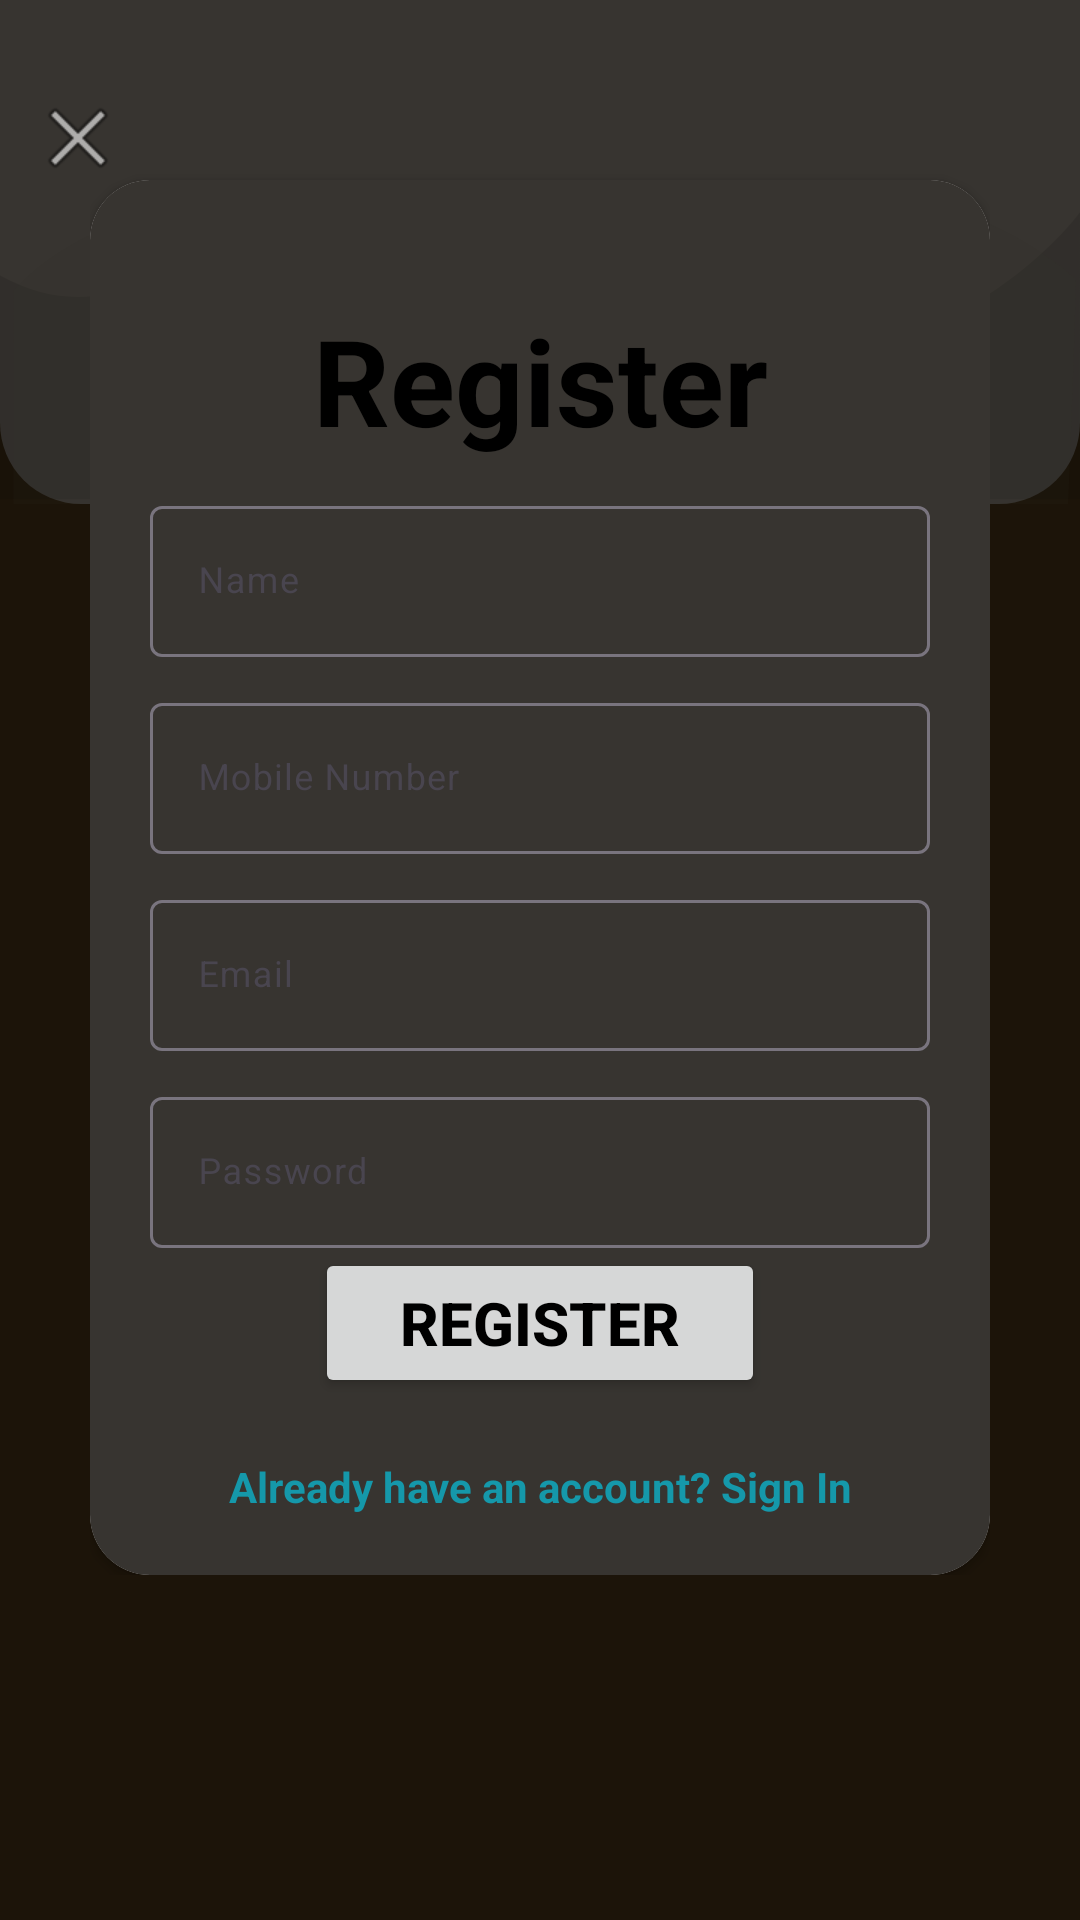

Icon click points for this 1080px×1920px phone screenshot, format (x=x, y=y):
close clear cancel: (x=88, y=148)
